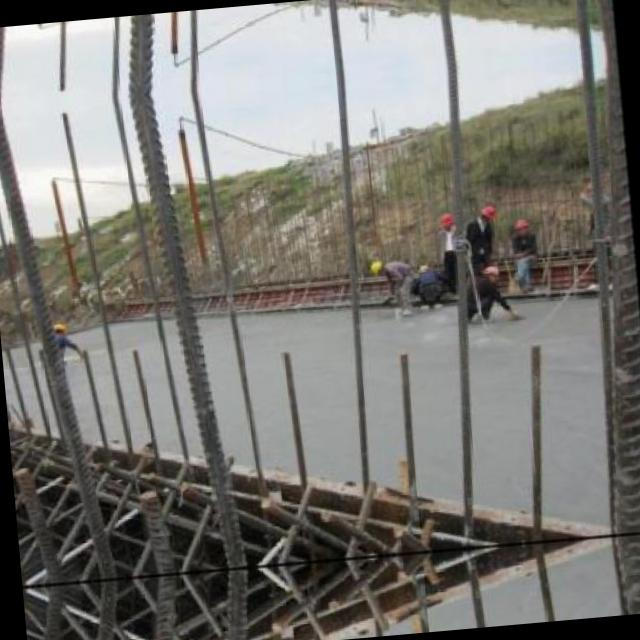helmet: (366, 258, 388, 278), (480, 262, 500, 284), (438, 210, 457, 232), (48, 319, 66, 342), (476, 202, 495, 223), (512, 215, 528, 238)
